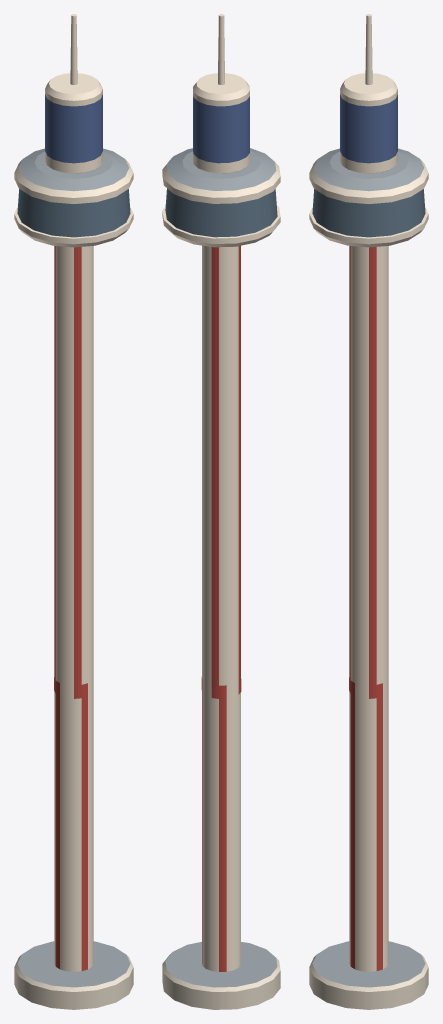
Rendered from carowinds-skytower.glb.
The picture shows the model from 3 angles, left to right: view 1: azimuth 90°, elevation 25°; view 2: azimuth 150°, elevation 25°; view 3: azimuth 270°, elevation 25°; orthographic projection.
Visible parts, largest first — view 1: Carolina Skytower; view 2: Carolina Skytower; view 3: Carolina Skytower.
Part boxes in pixels (box(x1,y1,x2,y2)): Carolina Skytower: box(14, 14, 133, 1009); Carolina Skytower: box(162, 14, 280, 1009); Carolina Skytower: box(309, 14, 428, 1009).
Bounding box in the file's own units: 9.7 × 87 × 9.7.
